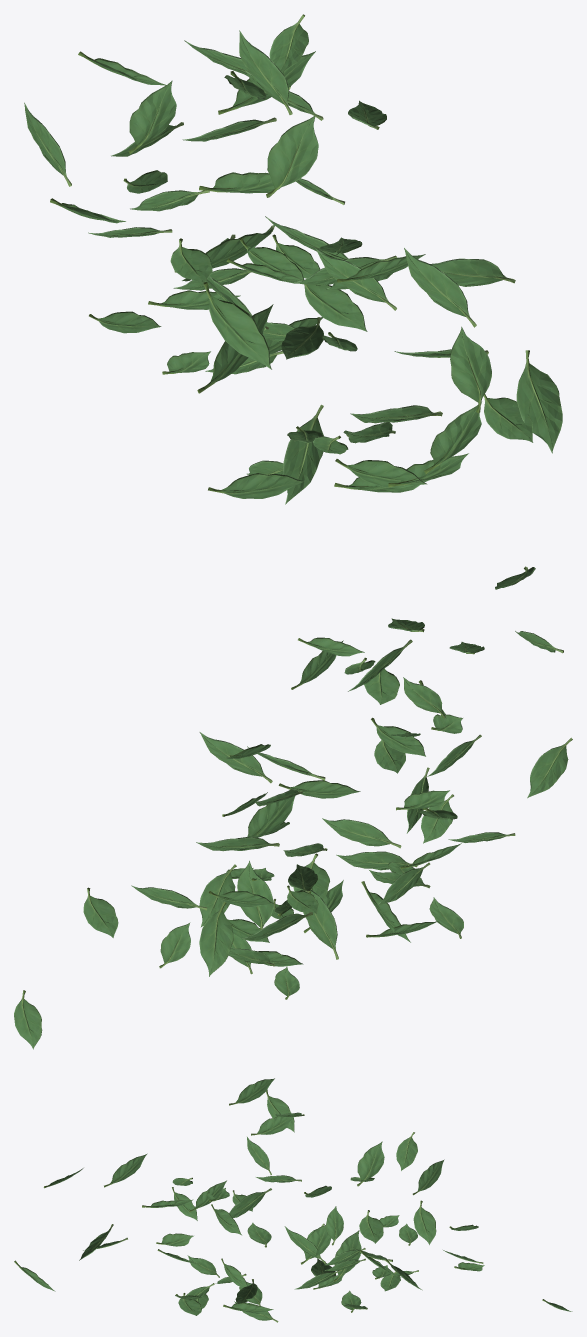
Rendered from holy_canopy8_full.glb.
3 renders of one model, top to bottom at view 1: azimuth 30°, elevation 25°; view 2: azimuth 150°, elevation 25°; view 3: azimuth 270°, elevation 25°, orthographic. The views are drawn at different scales.
Visible parts, largest first — view 1: holy_canopy8; view 2: holy_canopy8; view 3: holy_canopy8.
Boxes of the visible parts, box(x1,y1,x2,y2) form: holy_canopy8: box(24, 14, 562, 589); holy_canopy8: box(14, 618, 572, 1049); holy_canopy8: box(14, 1078, 572, 1322).
Size of the model in its own units: 9.47 by 12.16 by 27.32.
1 material, 1 textured.
